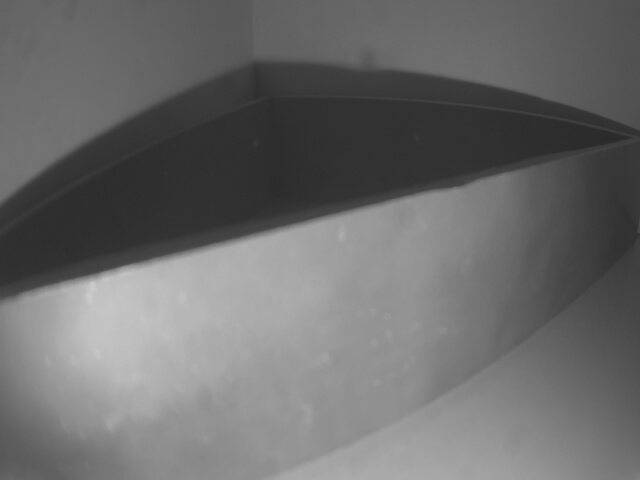Green: (0, 141, 637, 480)
